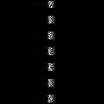generic_mod: (48, 14, 55, 23), (48, 30, 55, 39), (48, 46, 55, 55), (48, 77, 55, 86), (48, 93, 55, 102), (48, 62, 55, 70), (48, 0, 55, 7)
